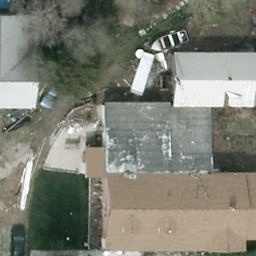boat: (146, 28, 193, 55)
camping car: (127, 51, 155, 96)
car: (39, 70, 69, 112)
